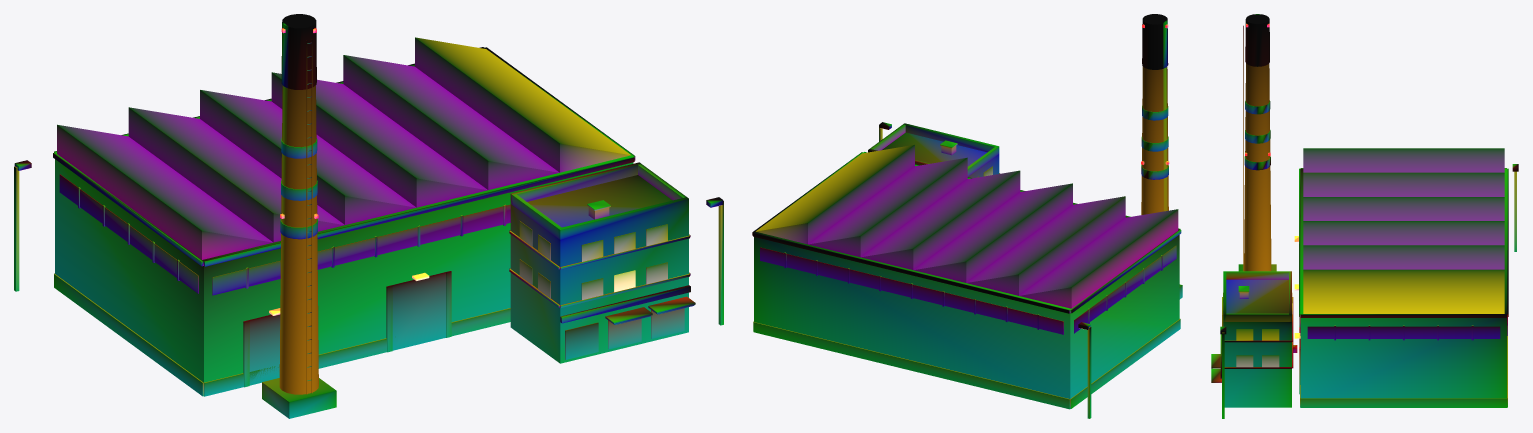
The model's file is Ind_Hall_V1.fbx.
3 views of the same model, side by side, from view 1: azimuth 30°, elevation 25°; view 2: azimuth 150°, elevation 25°; view 3: azimuth 270°, elevation 25° (orthographic). The views are drawn at different scales.
Parts seen in each view (by area): view 1: Ind_Hall_V1_LOD0; view 2: Ind_Hall_V1_LOD0; view 3: Ind_Hall_V1_LOD0.
Boxes of the visible parts, x1,y1,x2,y2 form: Ind_Hall_V1_LOD0: (14,14,723,418); Ind_Hall_V1_LOD0: (752,14,1182,418); Ind_Hall_V1_LOD0: (1211,14,1518,418).
Size of what is drawn, in the model's own units: 46.3 by 34 by 35.75.
